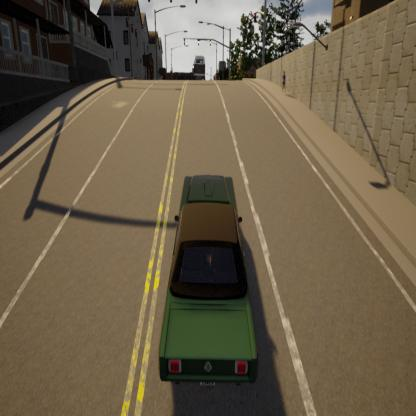Cars: (148, 171, 268, 405), (192, 53, 208, 80)
Pedestrian: (279, 66, 289, 98)
